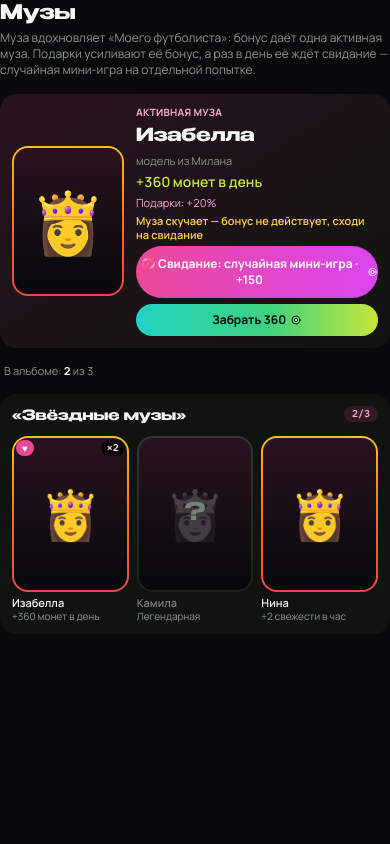
Scenario: Музы › opens a Muse with her gifts: given ones are marked, others can be bought
Click the text "Изабелла" below "Звёздные музы".
click(38, 602)  # box x1=12 y1=596 x2=64 y2=610
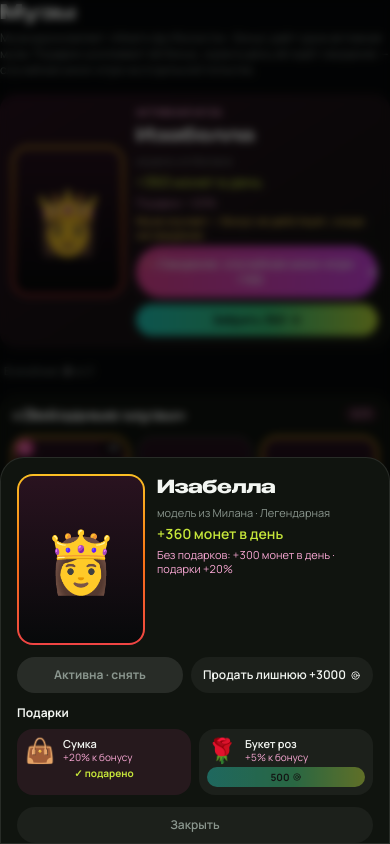
Result: the text "✓ подарено" is shown at x1=74 y1=766 x2=134 y2=780
Result: the text "Букет роз" is shown at x1=245 y1=736 x2=297 y2=751
Result: the button "Продать лишнюю +3000" is shown at x1=191 y1=657 x2=373 y2=693
